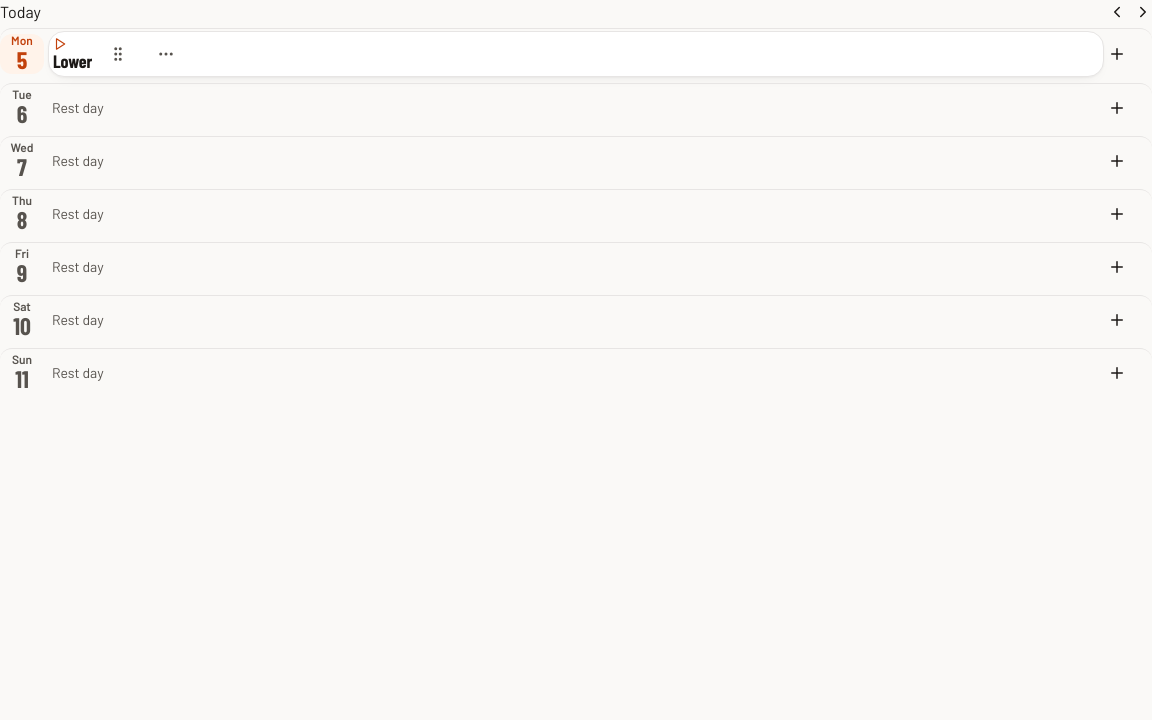
it: Calendar scheduled-workout correction › keeps drag and Move available when a scheduled occurrence is already in progress
The width and height of the screenshot is (1152, 720).
Expected: the button named "Drag Lower to another day" is shown, [96, 32, 140, 76]
Click the button named "More options for Lower": (166, 54) [144, 32, 188, 76]
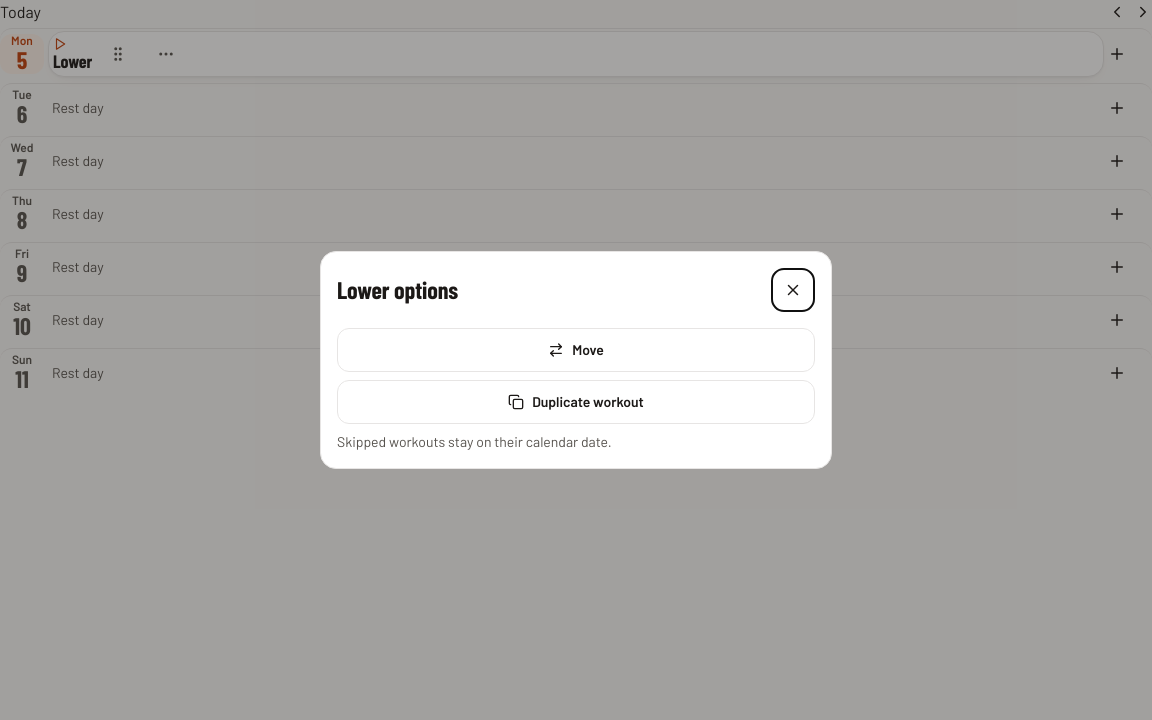
Click the button "Move": (576, 350) [337, 328, 815, 372]
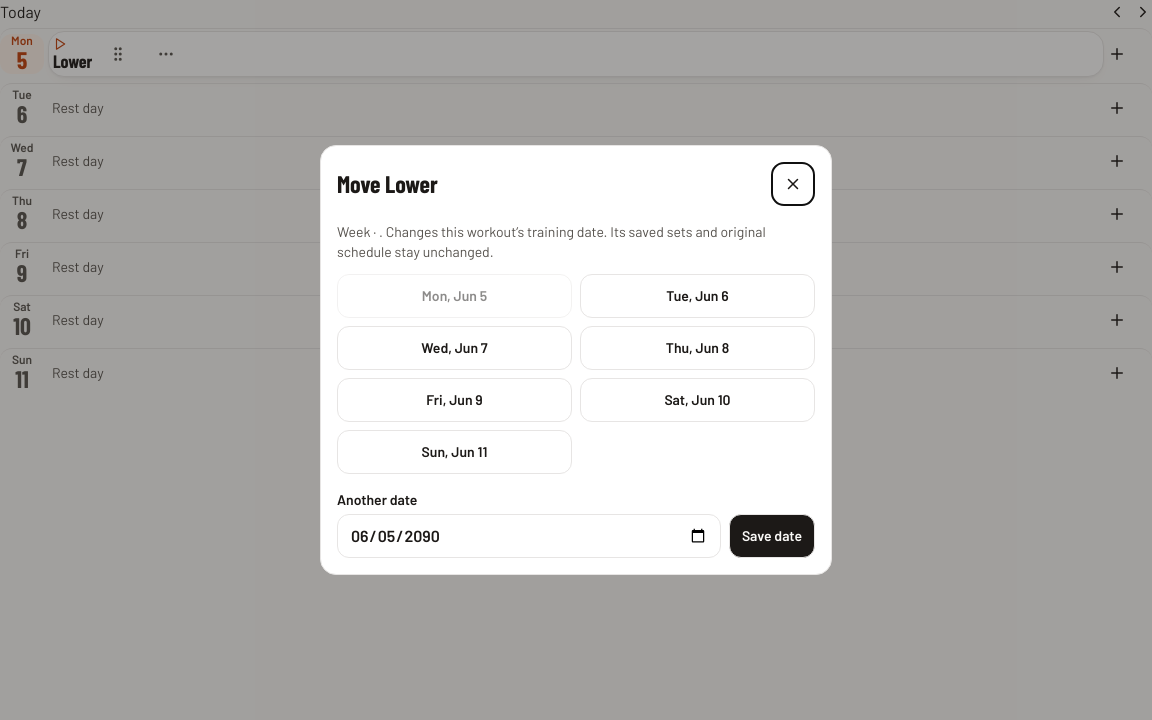
Result: the dialog "Move Lower" is shown at [320, 145, 832, 575]
